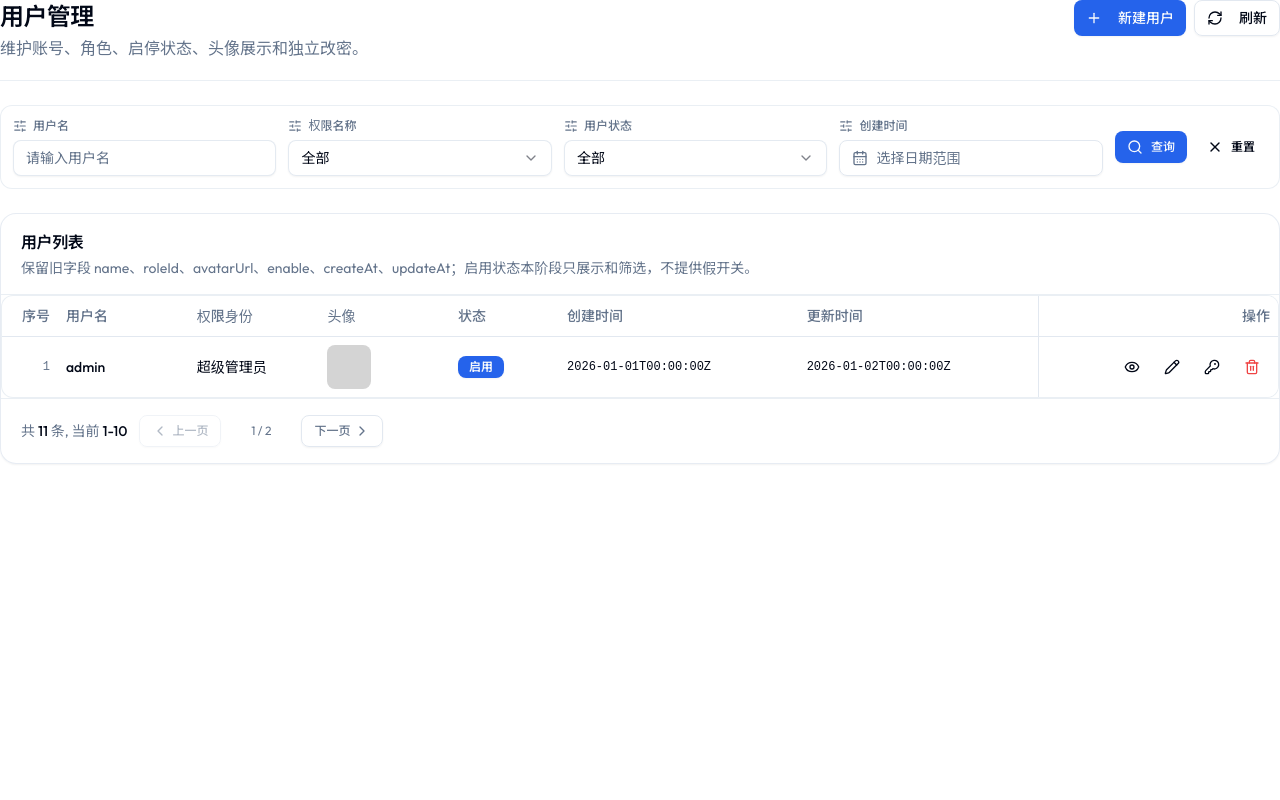
Scenario: UsersList › loads detail for view and keeps the form readonly without password
Expected: the text "admin" is shown, [58,336,189,396]
Click the button named "查看用户" at (1132, 366), box [1114,348,1150,384]
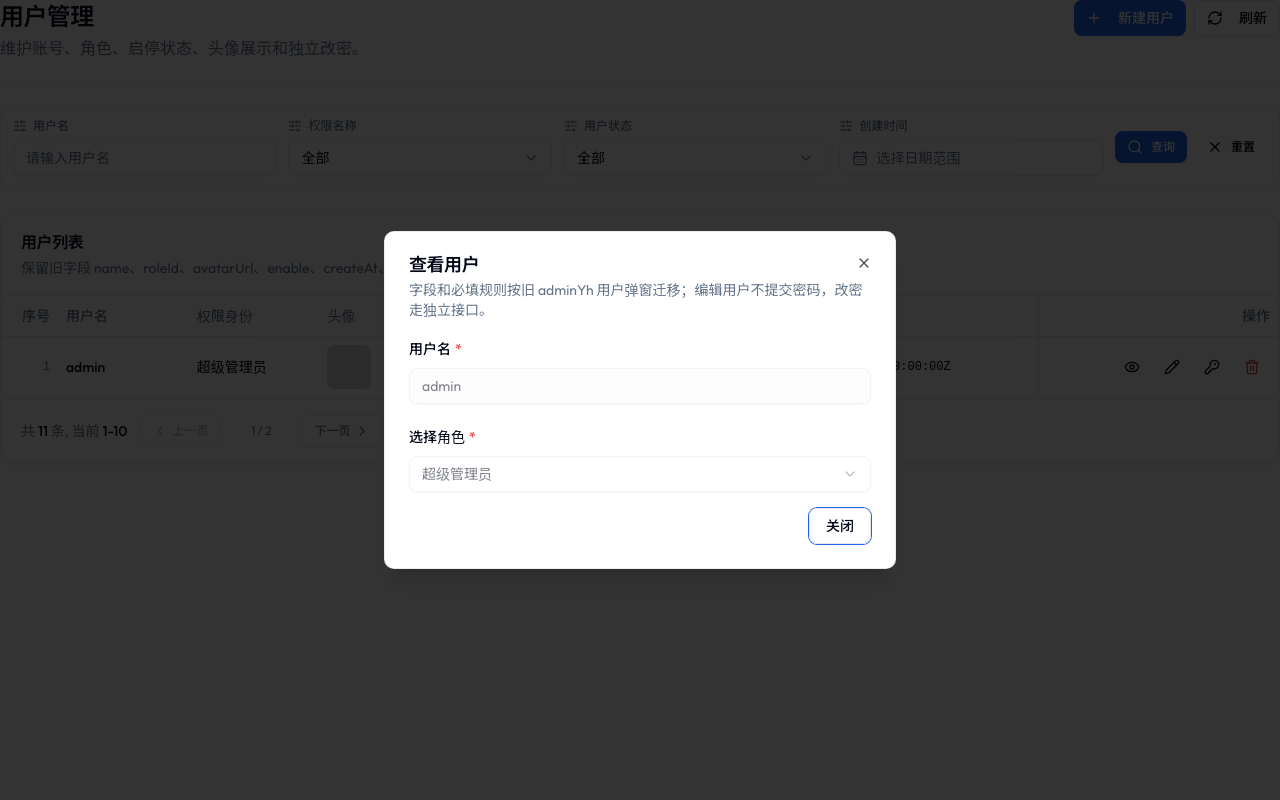
Result: the heading "查看用户" is shown at [409,253,479,276]
